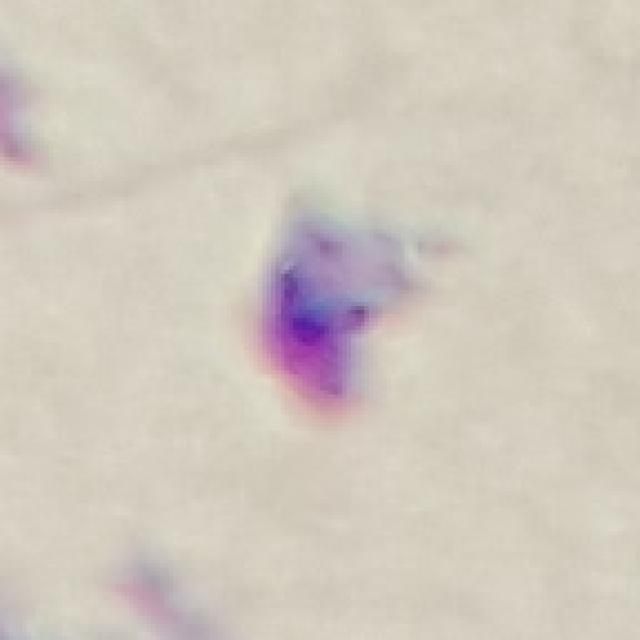non-sperm: (238, 197, 458, 426)
